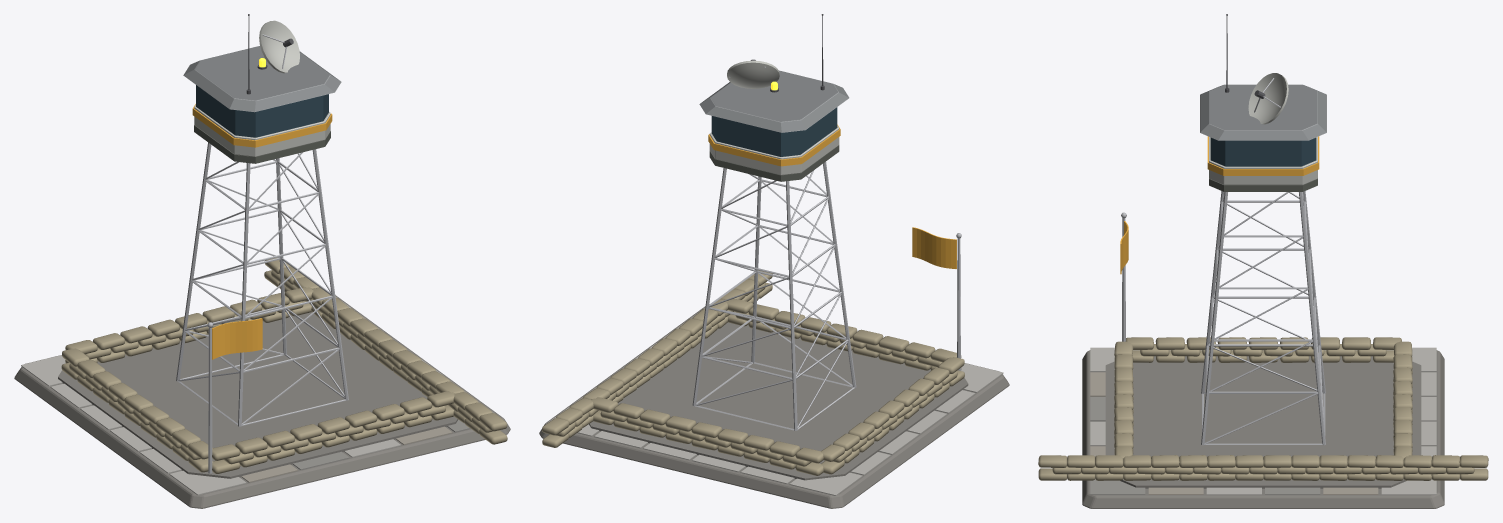
File: observation_post_orange.glb
3 renders of one model, left to right at view 1: azimuth 30°, elevation 25°; view 2: azimuth 150°, elevation 25°; view 3: azimuth 270°, elevation 25°, orthographic. The views are drawn at different scales.
Visible parts, largest first — view 1: Body; view 2: Body; view 3: Body.
Boxes of the visible parts, x1,y1,x2,y2 form: Body: (14, 14, 510, 508); Body: (539, 14, 1009, 508); Body: (1038, 14, 1488, 508).
Size of the model in its own units: 5.98 by 7.34 by 7.42.
1 material, 1 textured.
